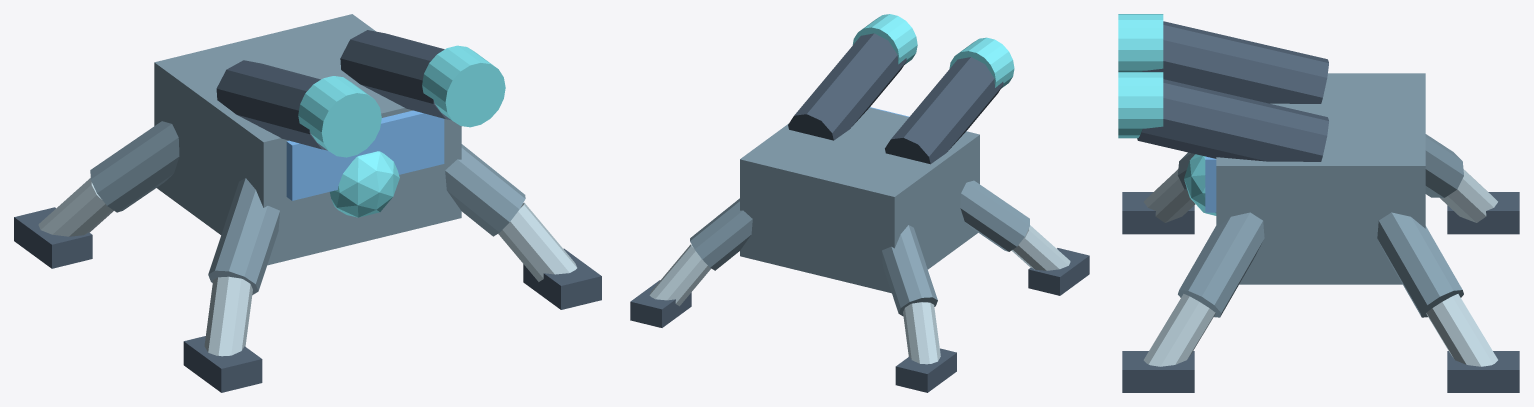
Rendered from atlas_walker.glb.
3 views of the same model, side by side, from view 1: azimuth 30°, elevation 25°; view 2: azimuth 150°, elevation 25°; view 3: azimuth 270°, elevation 25° (orthographic). The views are drawn at different scales.
Parts seen in each view (by area): view 1: walker_body_0, armored_eye_1, artillery_mount_15, artillery_mount_16, turret_muzzle_18, turret_muzzle_17, piston_leg_3, piston_leg_6, piston_leg_12, energy_core_2, leg_servo_7, leg_servo_13 (+4 smaller); view 2: walker_body_0, artillery_mount_15, artillery_mount_16, piston_leg_6, piston_leg_3, piston_leg_9, leg_servo_4, leg_servo_10, foot_5, foot_8, turret_muzzle_17, turret_muzzle_18 (+2 smaller); view 3: walker_body_0, artillery_mount_16, artillery_mount_15, piston_leg_12, piston_leg_9, turret_muzzle_18, leg_servo_13, leg_servo_10, turret_muzzle_17, foot_11, foot_14, foot_5 (+6 smaller).
Part boxes in pixels (box(x1,y1,x2,y2)): walker_body_0: box(154, 14, 461, 265); armored_eye_1: box(286, 110, 444, 200); artillery_mount_15: box(216, 60, 327, 150); artillery_mount_16: box(340, 30, 451, 120); turret_muzzle_18: box(422, 45, 505, 127); turret_muzzle_17: box(298, 76, 381, 157); piston_leg_3: box(90, 121, 179, 212); piston_leg_6: box(208, 178, 279, 294); piston_leg_12: box(445, 144, 525, 236); energy_core_2: box(330, 151, 399, 217); leg_servo_7: box(204, 276, 252, 356); leg_servo_13: box(498, 202, 577, 281); walker_body_0: box(740, 107, 979, 293); artillery_mount_15: box(885, 57, 1003, 164); artillery_mount_16: box(788, 33, 906, 140); piston_leg_6: box(960, 180, 1029, 251); piston_leg_3: box(882, 225, 937, 316); piston_leg_9: box(690, 198, 752, 270); leg_servo_4: box(903, 302, 940, 364); leg_servo_10: box(649, 244, 711, 306); foot_5: box(895, 348, 956, 392); foot_8: box(1028, 248, 1089, 295); turret_muzzle_17: box(949, 37, 1014, 88); turret_muzzle_18: box(852, 14, 917, 64); walker_body_0: box(1216, 73, 1425, 284); artillery_mount_16: box(1137, 79, 1328, 161); artillery_mount_15: box(1142, 21, 1328, 103); piston_leg_12: box(1178, 212, 1264, 317); piston_leg_9: box(1377, 212, 1463, 317); turret_muzzle_18: box(1118, 72, 1163, 138); leg_servo_13: box(1143, 294, 1215, 366); leg_servo_10: box(1426, 294, 1497, 366); turret_muzzle_17: box(1118, 14, 1163, 71); foot_11: box(1447, 351, 1519, 392); foot_14: box(1122, 351, 1194, 392); foot_5: box(1447, 192, 1519, 234).
Size of the model in its own units: 2.04 by 1.38 by 1.95.
